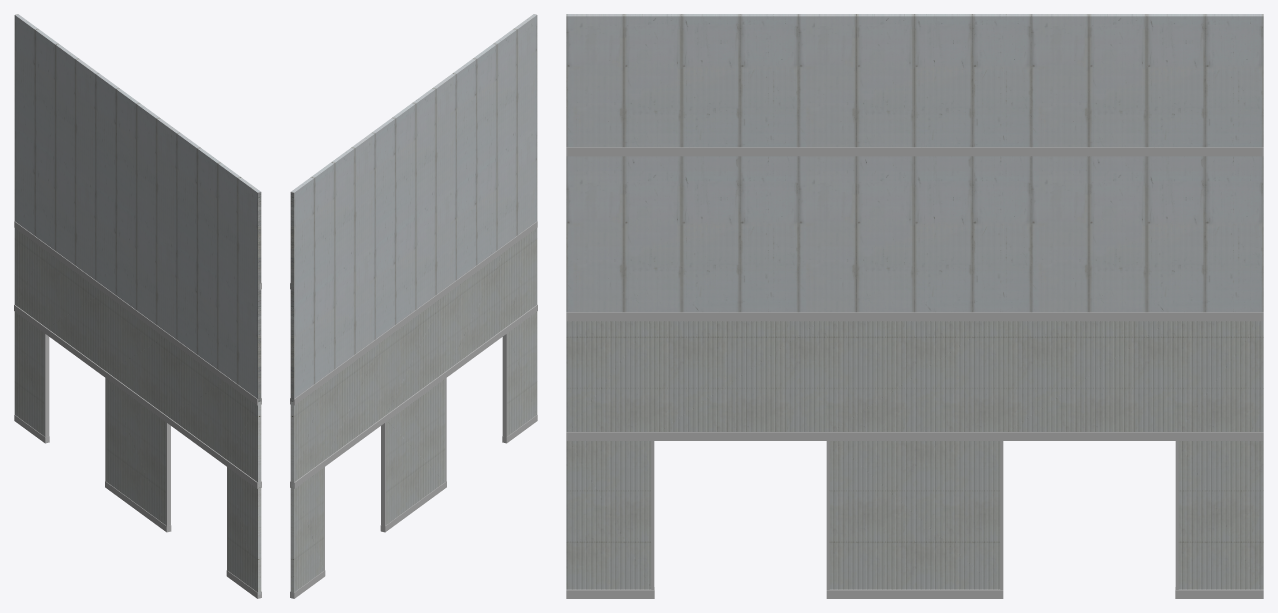
The model's file is Warehouse_Wall_03.FBX.
3 renders of one model, left to right at view 1: azimuth 30°, elevation 25°; view 2: azimuth 150°, elevation 25°; view 3: azimuth 270°, elevation 25°, orthographic. The views are drawn at different scales.
Parts seen in each view (by area): view 1: Warehouse_Wall_3; view 2: Warehouse_Wall_3; view 3: Warehouse_Wall_3.
Boxes of the visible parts, bbox=[...] form: Warehouse_Wall_3: bbox=[14, 14, 261, 598]; Warehouse_Wall_3: bbox=[290, 14, 537, 598]; Warehouse_Wall_3: bbox=[566, 14, 1263, 598].
Size of the model in its own units: 5.36 by 442 by 480.
